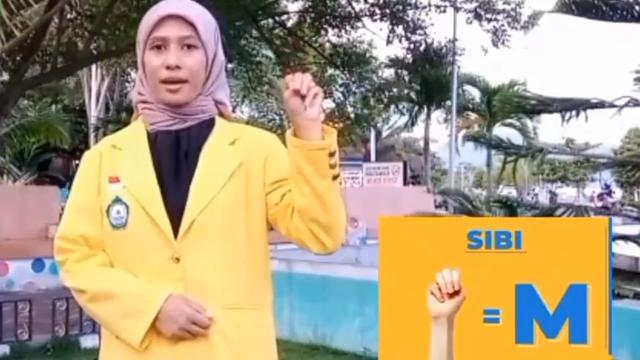M: (278, 70, 326, 128), (428, 268, 466, 324)
